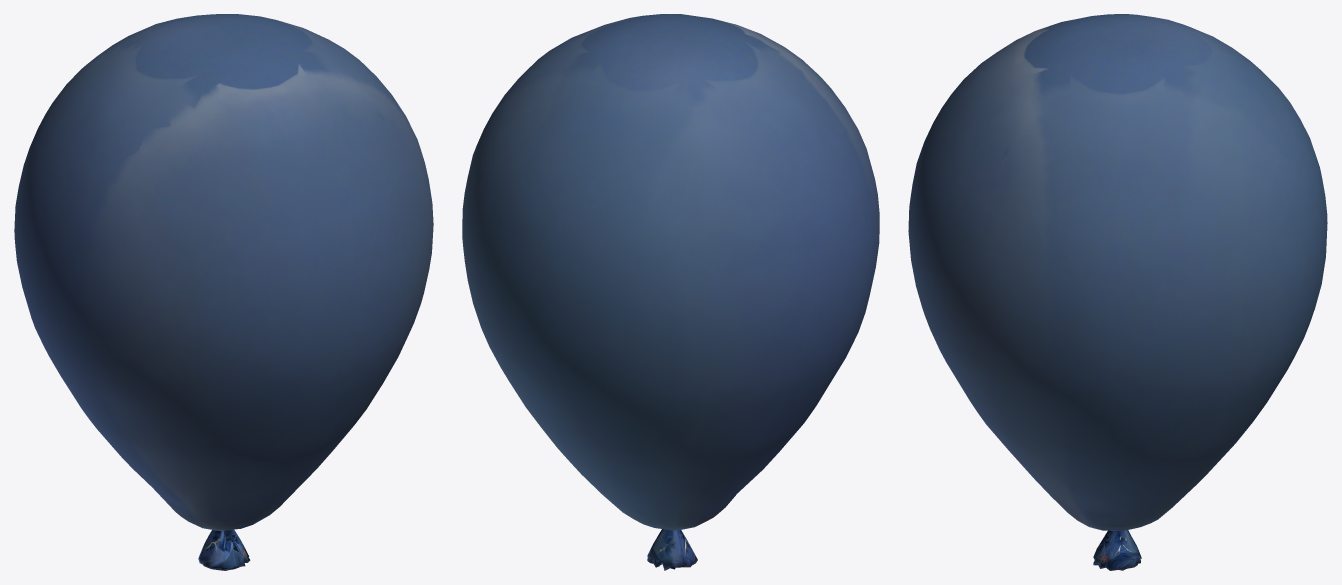
The model's file is A_single_low_poly_3D__1213235933_texture.fbx.
The picture shows the model from 3 angles, left to right: view 1: azimuth 30°, elevation 25°; view 2: azimuth 150°, elevation 25°; view 3: azimuth 270°, elevation 25°; orthographic projection.
Visible parts, largest first — view 1: Mesh_0; view 2: Mesh_0; view 3: Mesh_0.
Part boxes in pixels (<box>): Mesh_0: <box>14,14,433,570</box>; Mesh_0: <box>462,14,879,570</box>; Mesh_0: <box>908,14,1327,570</box>.
Size of the model in its own units: 130 by 181 by 130.
Materials: 1 (1 with a texture image).
